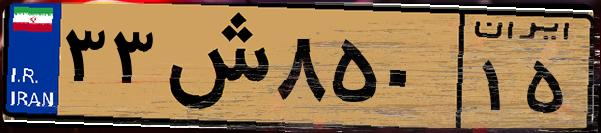0: (385, 28, 445, 110)
1: (475, 38, 525, 113)
3: (57, 26, 110, 100), (110, 28, 158, 98)
5: (330, 28, 385, 110), (525, 38, 570, 115)
8: (270, 28, 330, 110)
ش: (158, 12, 270, 120)
